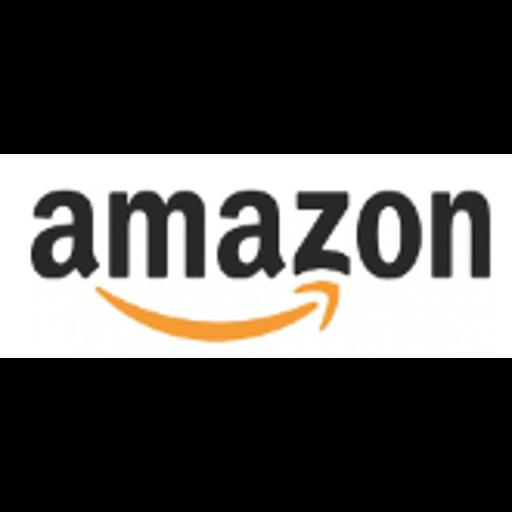Amazon: (0, 154, 512, 358)
